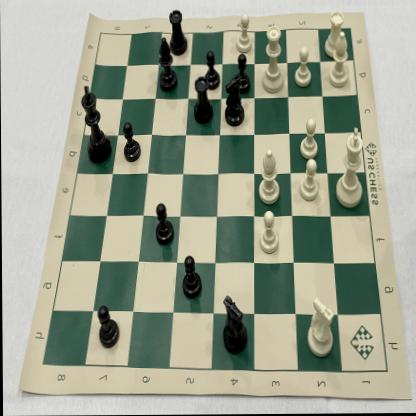black-bishop: (154, 35, 179, 95)
black-king: (77, 79, 114, 166)
black-knight: (218, 291, 252, 357), (221, 75, 247, 130)
black-pawn: (94, 297, 123, 353), (151, 197, 177, 249), (179, 252, 204, 302), (120, 119, 144, 165), (201, 46, 222, 92), (232, 49, 252, 97)
black-rook: (166, 5, 192, 60), (188, 75, 215, 127)
white-bishop: (255, 147, 282, 207), (327, 29, 351, 92)
white-king: (332, 125, 367, 212)
white-knight: (303, 294, 337, 361)
white-pawn: (297, 156, 321, 206), (258, 208, 282, 258), (298, 116, 320, 164), (292, 45, 314, 89), (234, 11, 255, 57)
white-queen: (259, 21, 286, 95)
white-rook: (322, 7, 346, 61)
